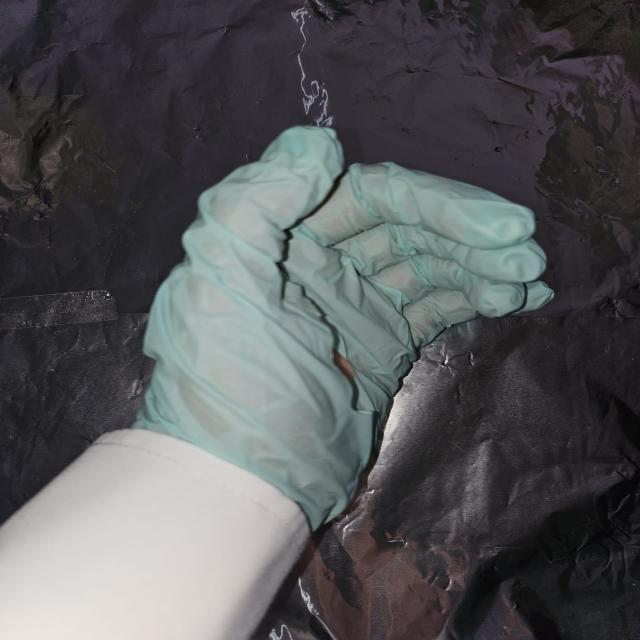gloves_damaged: (129, 122, 559, 532)
